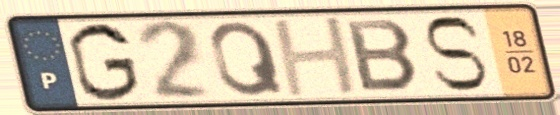2: (134, 18, 219, 104)
B: (342, 17, 424, 94)
G: (65, 20, 143, 104)
H: (268, 13, 364, 101)
Q: (206, 19, 289, 100)
S: (419, 13, 492, 94)
